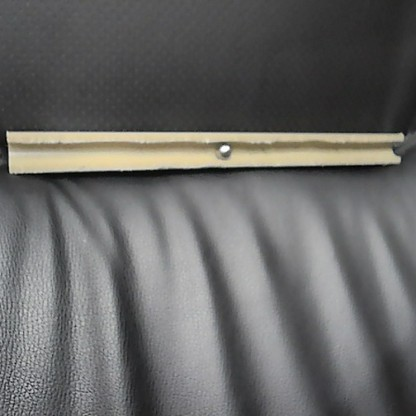ironball: (211, 140, 234, 162)
